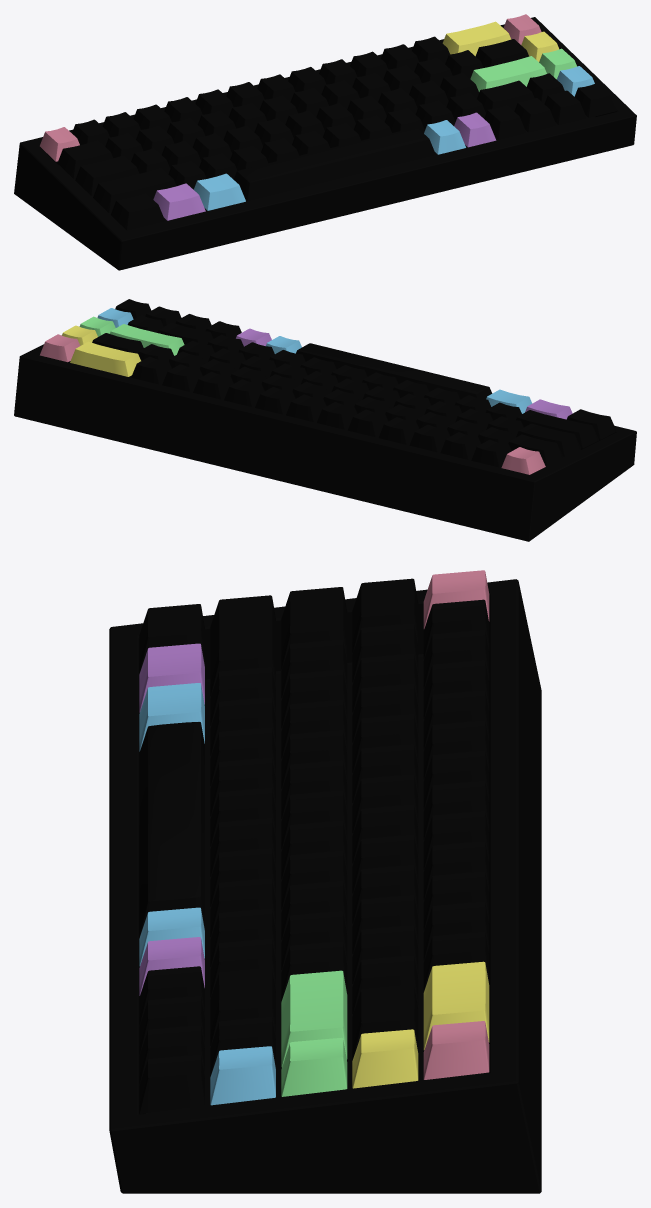
The model's file is Keyboard.gltf.
3 renders of one model, top to bottom at view 1: azimuth 30°, elevation 25°; view 2: azimuth 150°, elevation 25°; view 3: azimuth 270°, elevation 25°, orthographic. The views are drawn at different scales.
Visible parts, largest first — view 1: NK.65; view 2: NK.65; view 3: NK.65.
Part boxes in pixels (x1,y1,x2,y2): NK.65: (14, 14, 636, 270); NK.65: (14, 299, 636, 541); NK.65: (109, 570, 541, 1193).
Bounding box in the file's own units: 0.3191 × 0.0432 × 0.1157.
